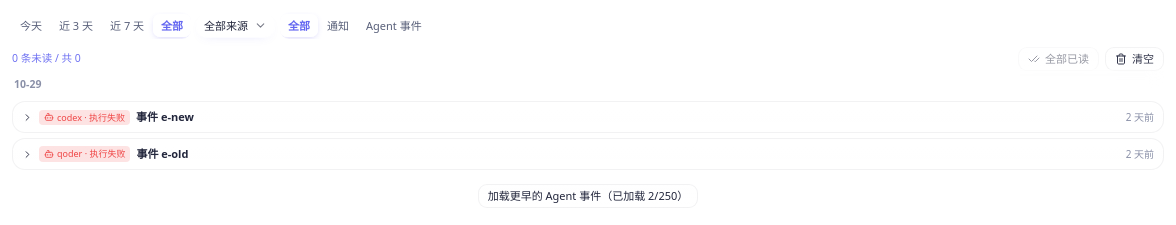
Test: HistoryPanel 分页与刷新空隙 › 加载更早事件使用最旧 ID 作游标并展示已加载/总数
Step 1. Click the button "加载更早的 Agent 事件（已加载 2/250）" → (588, 196), box [478,184,698,208]
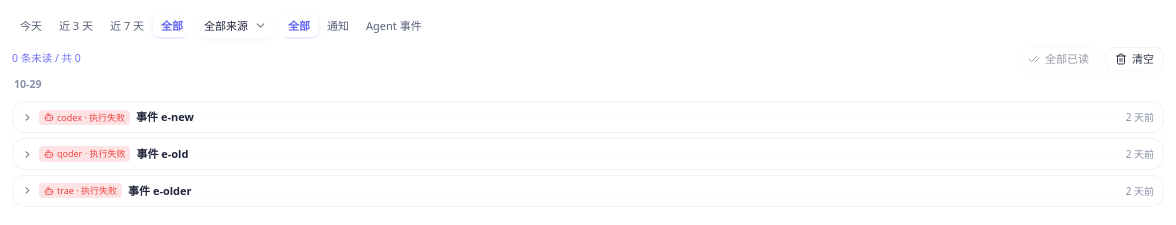
Expected: the text "事件 e-new" is shown, [136,109,194,124]
Result: the text "事件 e-older" is shown at [128,183,192,198]
Result: the button "加载更早的 Agent 事件" is gone
